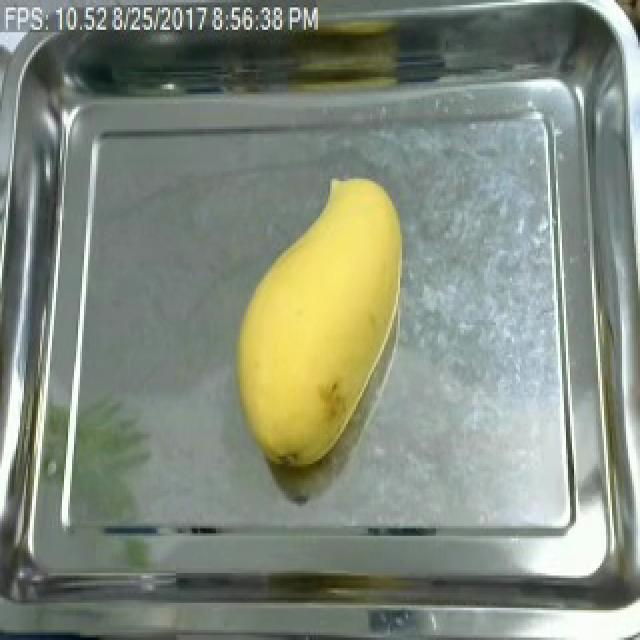fruit: (224, 168, 410, 478)
